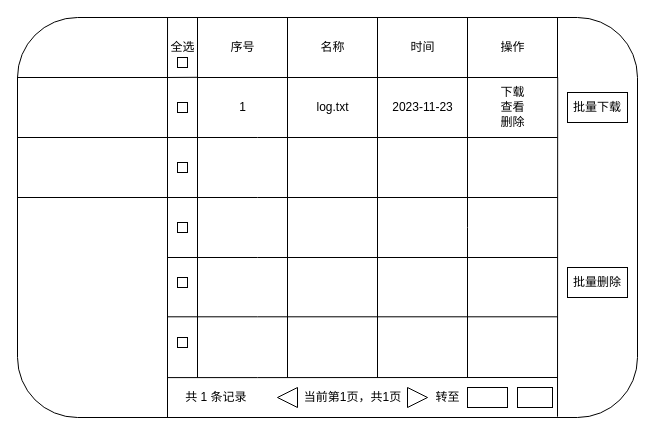
Image size: 655x436. Some labels were removed from this diagram. The shapes that lost their labels are listed below. From the top down, each one's box as (x1, y1, x2, y2) in pixels, then its label:
(16, 76, 168, 138): 运行日志
(16, 136, 168, 198): 异常日志
(516, 386, 552, 408): 确认
